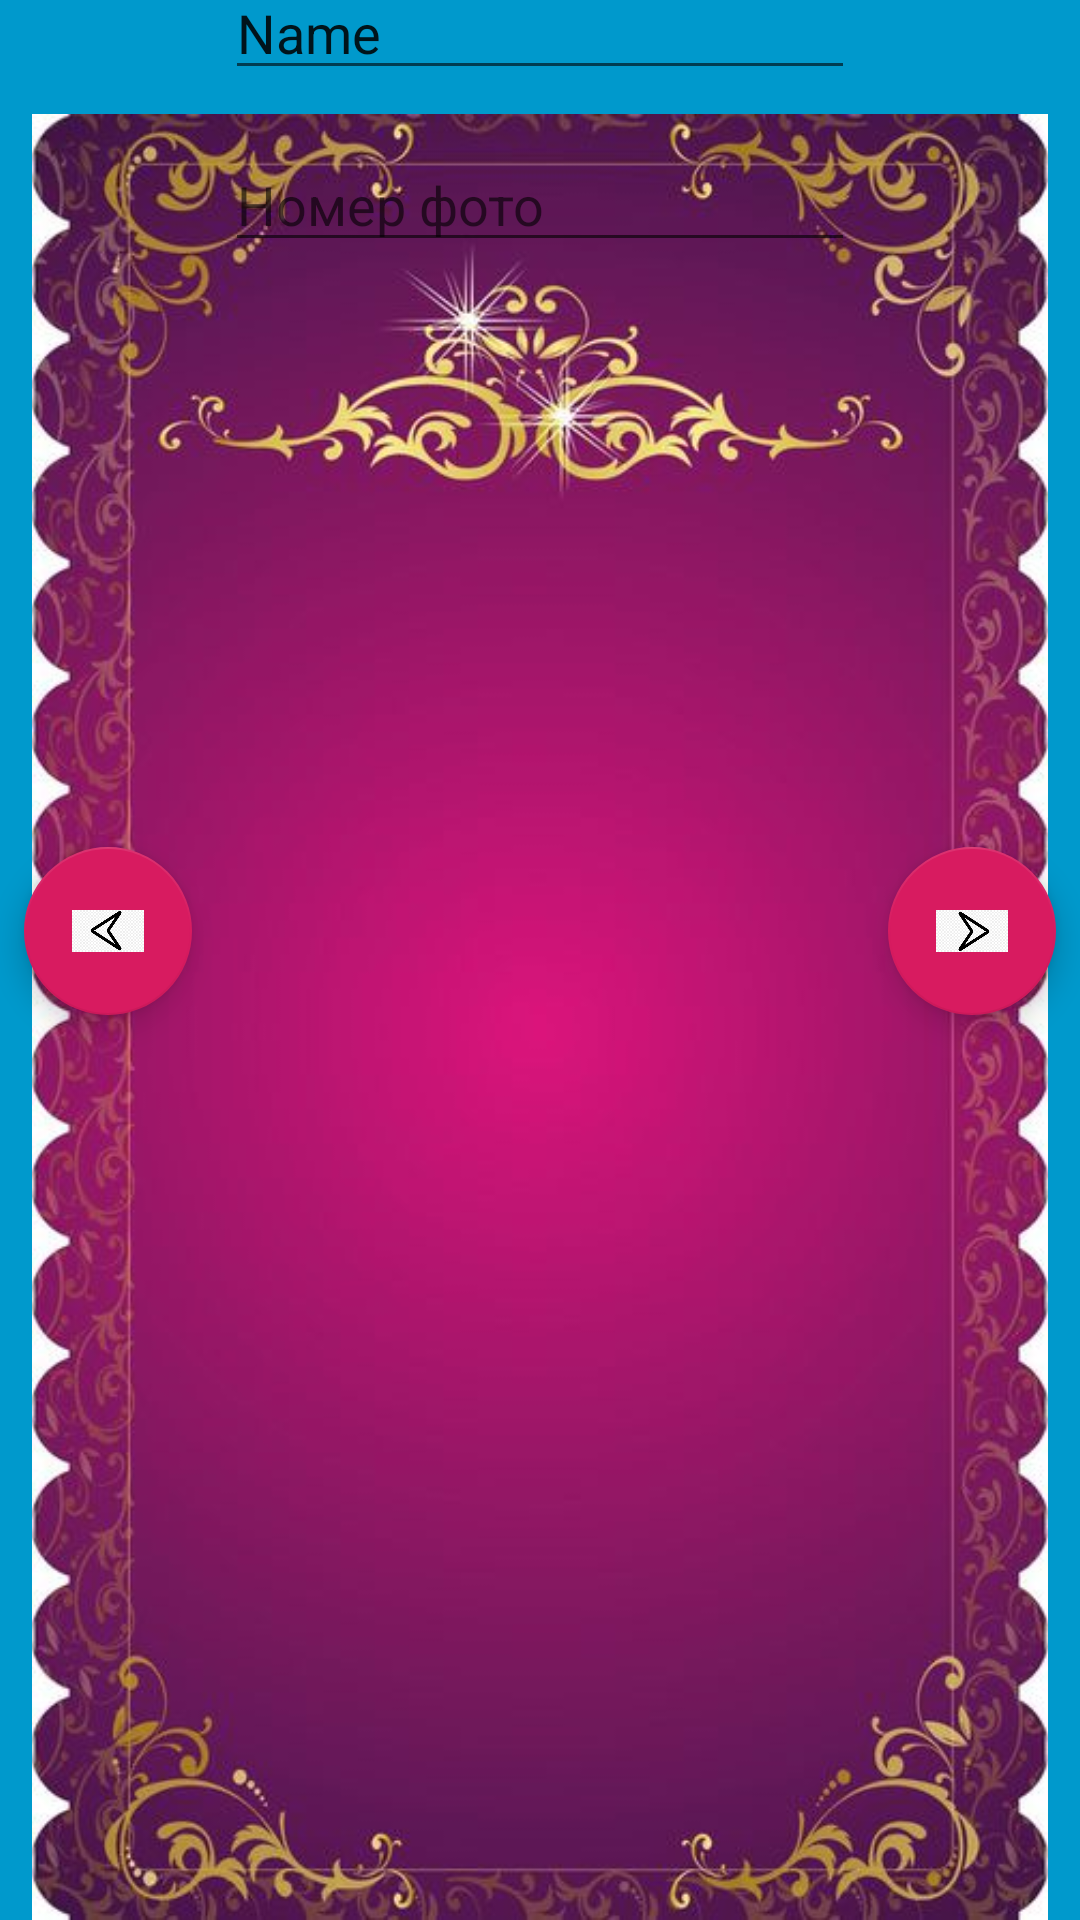

Point at icon controls on the screen. Image size 1080 × 1920, points as point (x, y).
left arrow: point (108, 931)
right arrow: point (972, 931)
